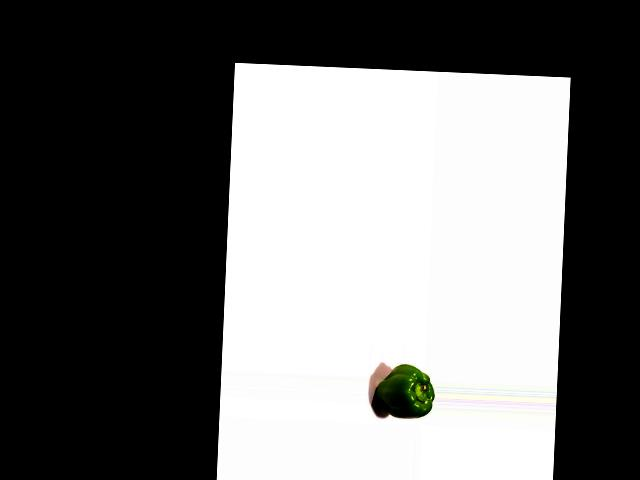bell_pepper: (372, 360, 435, 420)
